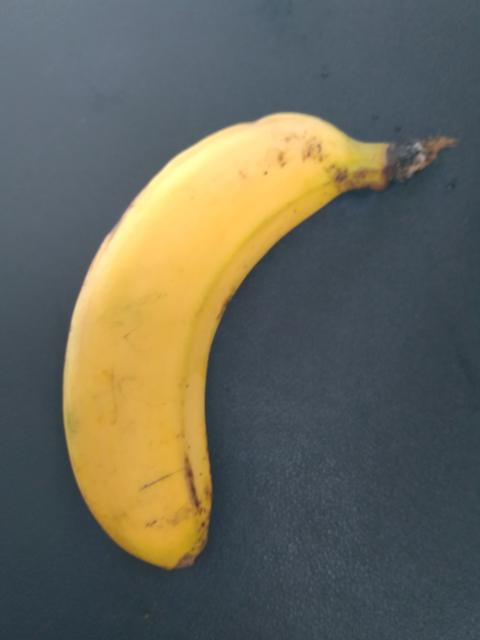freshripe: (47, 73, 397, 566)
